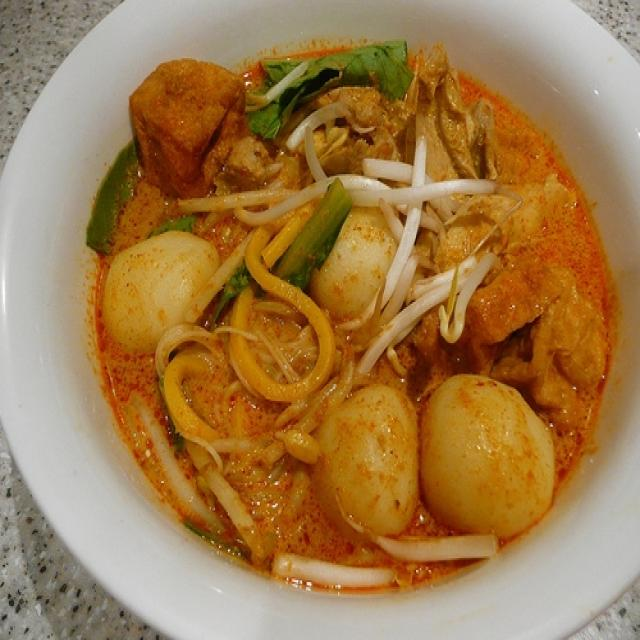面条主食: (82, 26, 627, 594)
